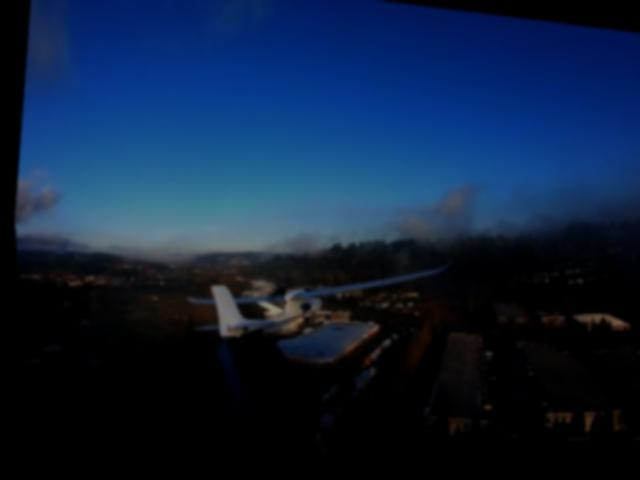uav: (160, 213, 460, 387)
